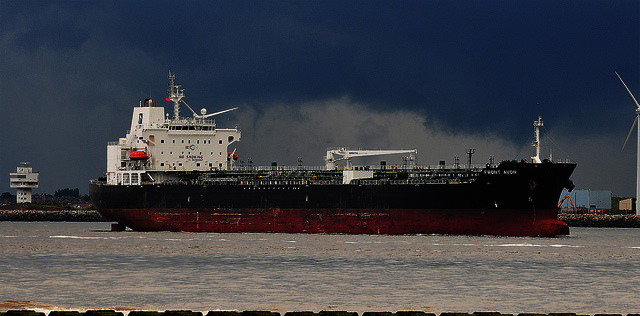tanker: (89, 67, 576, 239)
